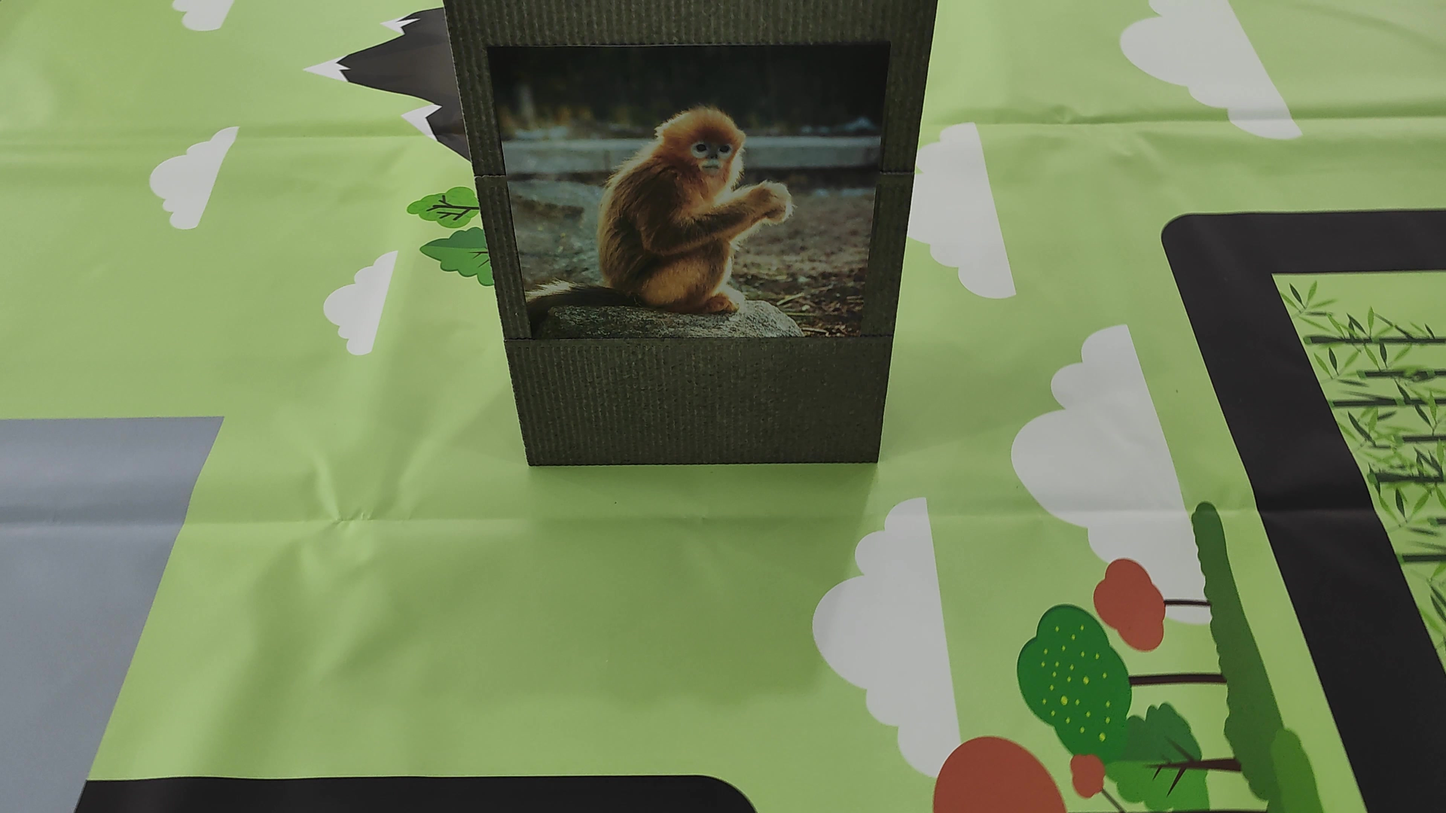monkey: (583, 94, 819, 332)
